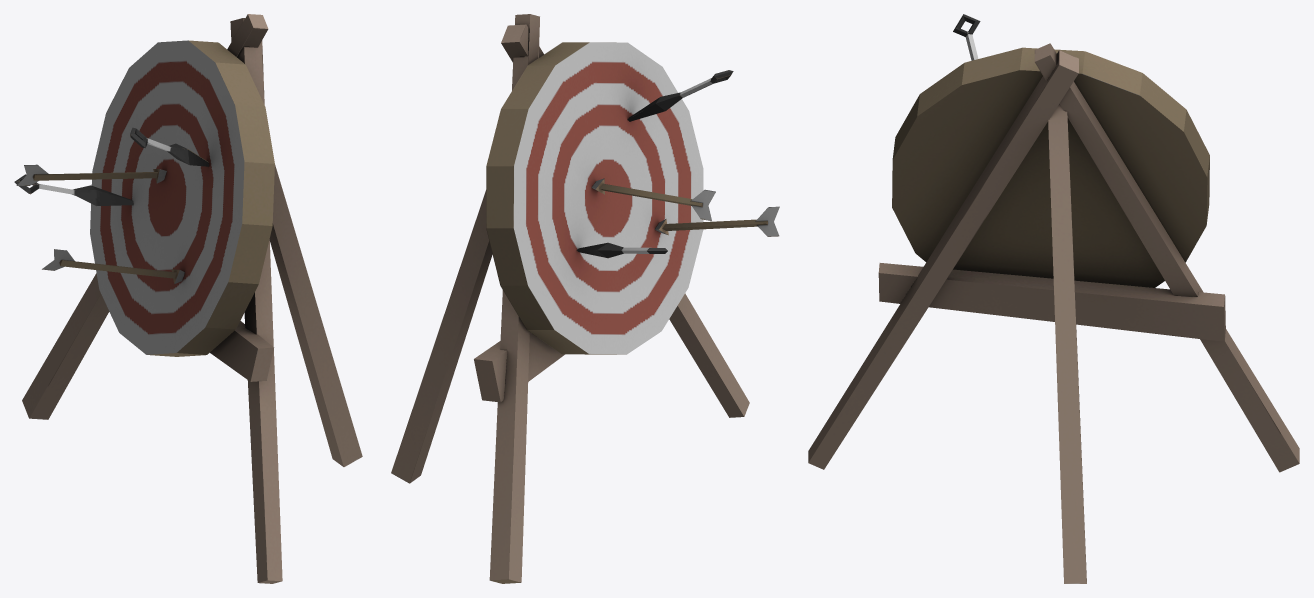
File: Target.fbx
3 views of the same model, side by side, from view 1: azimuth 30°, elevation 25°; view 2: azimuth 150°, elevation 25°; view 3: azimuth 270°, elevation 25° (orthographic).
Parts seen in each view (by area): view 1: Cylinder.041; view 2: Cylinder.041; view 3: Cylinder.041.
Boxes of the visible parts, left/top/right/bottom form: Cylinder.041: left=14, top=14, right=362, bottom=583; Cylinder.041: left=391, top=14, right=779, bottom=583; Cylinder.041: left=808, top=14, right=1299, bottom=583.
Bounding box in the file's own units: 1.02 × 1.35 × 1.23.
Materials: 1 (1 with a texture image).
